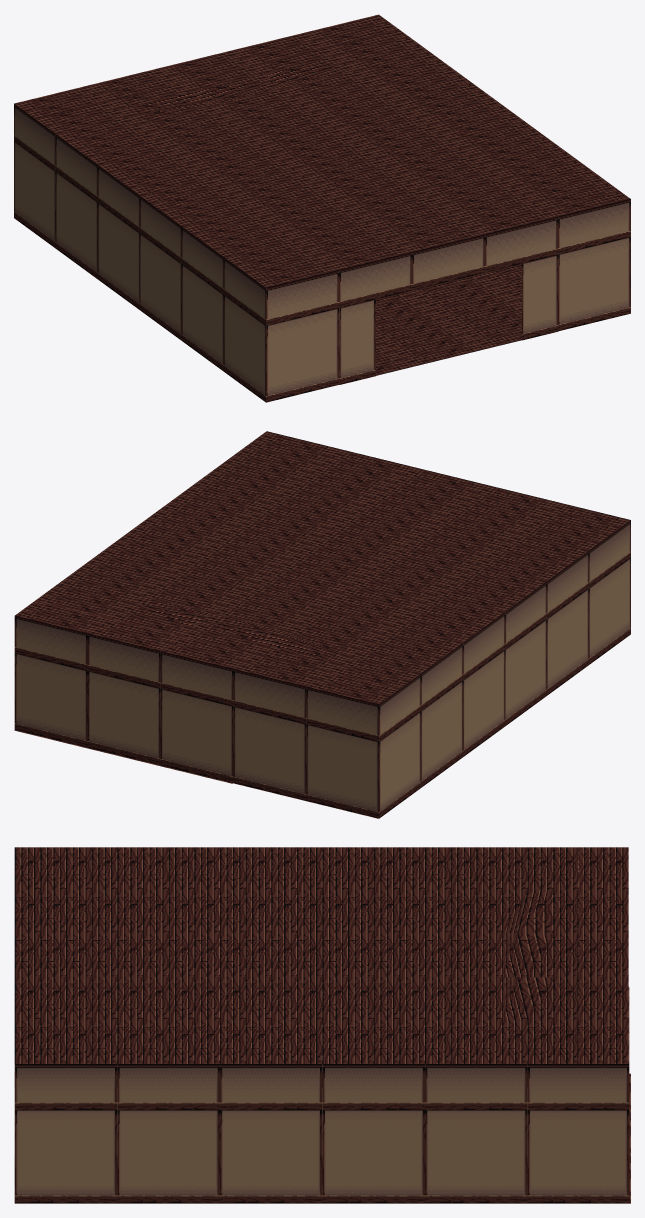
File: CeremonyRoom.obj
The picture shows the model from 3 angles, top to bottom: view 1: azimuth 30°, elevation 25°; view 2: azimuth 150°, elevation 25°; view 3: azimuth 270°, elevation 25°; orthographic projection. The views are drawn at different scales.
Visible parts, largest first — view 1: Default; view 2: Default; view 3: Default.
Boxes of the visible parts, <box> form: Default: <box>14,14,630,402</box>; Default: <box>14,431,630,818</box>; Default: <box>14,847,630,1203</box>.
Size of the model in its own units: 40 by 12 by 48.12.
1 material, 1 textured.
